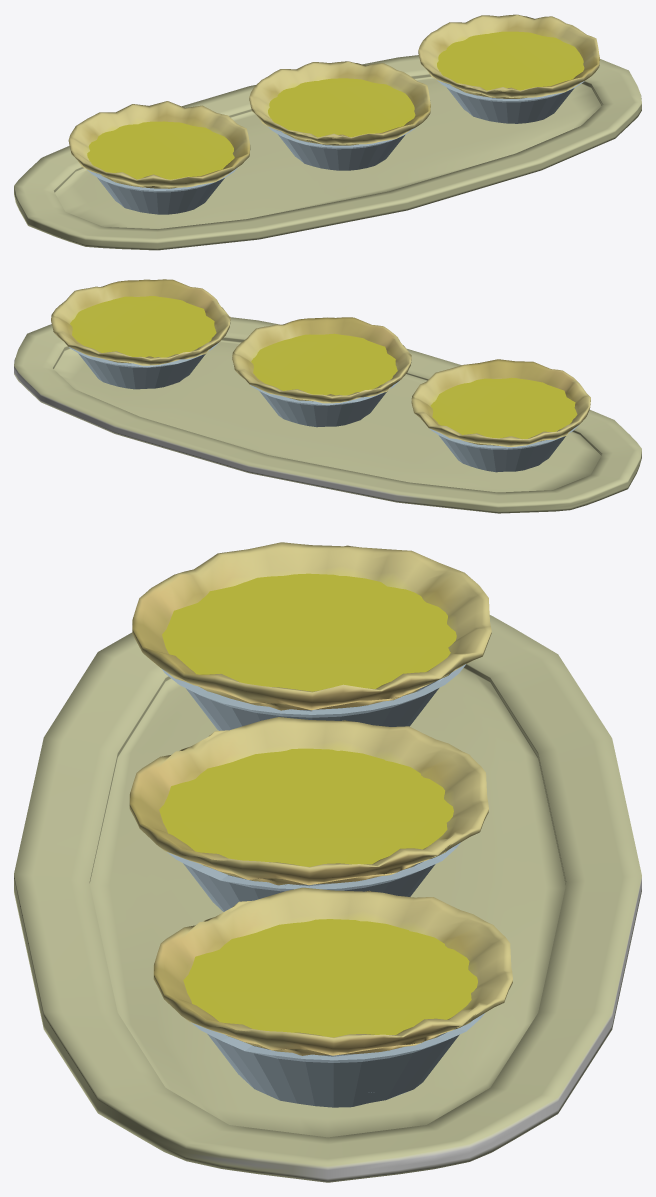
The model's file is dan-tat.gltf.
3 views of the same model, one above another, from view 1: azimuth 30°, elevation 25°; view 2: azimuth 150°, elevation 25°; view 3: azimuth 270°, elevation 25° (orthographic). The views are drawn at different scales.
Parts seen in each view (by area): view 1: Plane.010, dantat1, dantat2, dantat3; view 2: Plane.010, dantat1, dantat2, dantat3; view 3: Plane.010, dantat3, dantat1, dantat2.
Part boxes in pixels (x1,y1,x2,y2): Plane.010: [14, 55, 641, 250]; dantat1: [68, 101, 250, 214]; dantat2: [249, 61, 430, 170]; dantat3: [418, 14, 599, 123]; Plane.010: [14, 317, 641, 513]; dantat1: [411, 359, 590, 472]; dantat2: [232, 317, 411, 427]; dantat3: [51, 279, 230, 389]; Plane.010: [14, 615, 641, 1182]; dantat3: [153, 887, 512, 1107]; dantat1: [132, 542, 491, 730]; dantat2: [129, 717, 488, 911].
Size of the model in its own units: 21.76 by 2.01 by 9.92.
